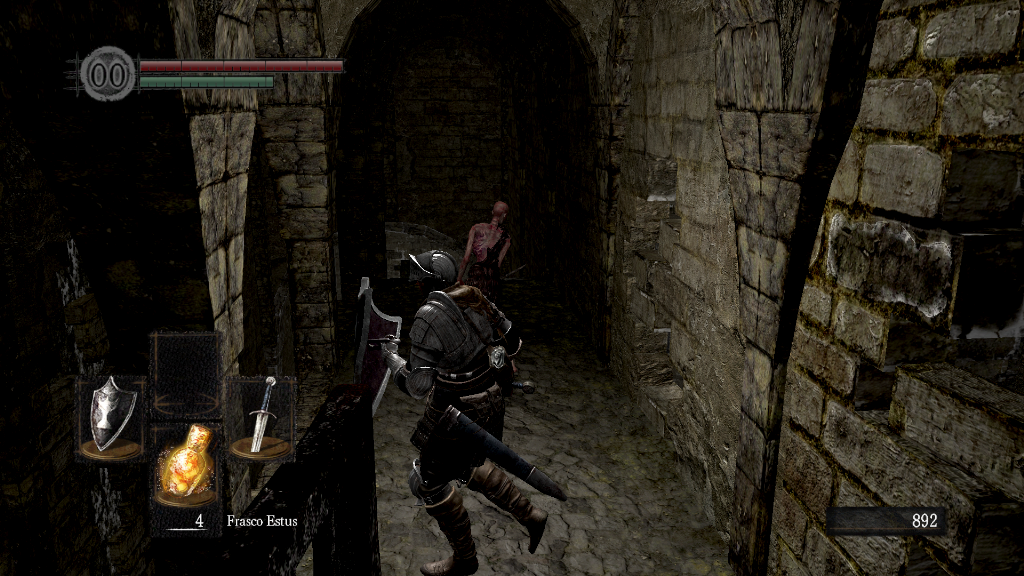health: (138, 58, 343, 71)
hollow: (451, 198, 513, 305)
humanity: (80, 45, 136, 102)
player: (353, 250, 571, 574)
souls: (825, 506, 945, 536)
stamina: (138, 74, 274, 88)
